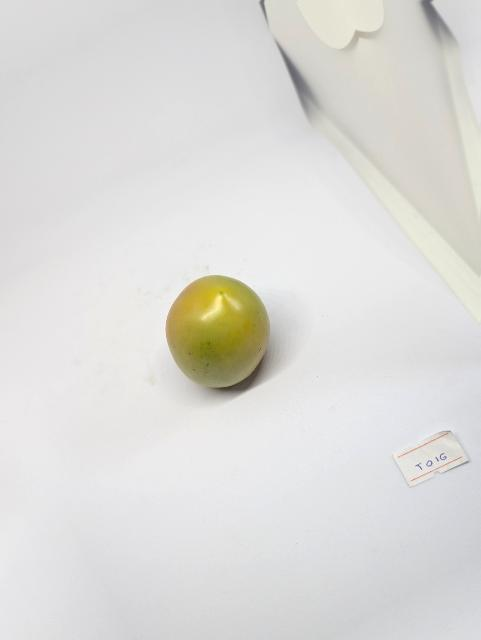breaker: (166, 276, 270, 387)
